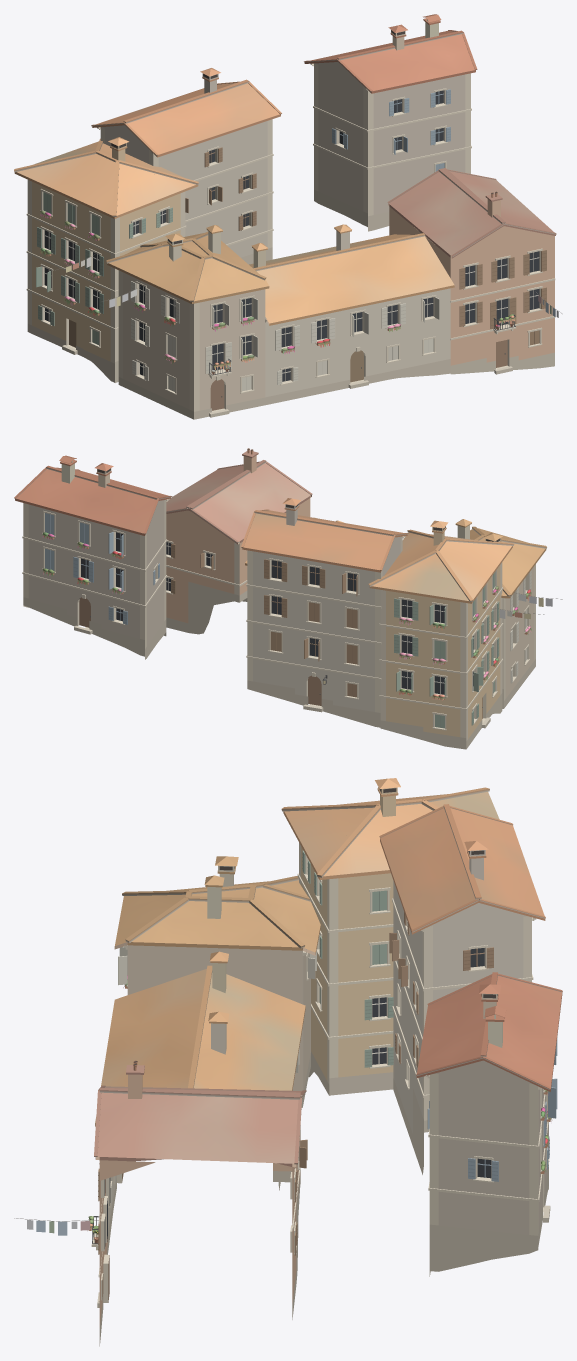
The model's file is SM_BM_BT_blk_02.glb.
3 renders of one model, top to bottom at view 1: azimuth 30°, elevation 25°; view 2: azimuth 150°, elevation 25°; view 3: azimuth 270°, elevation 25°, orthographic. The views are drawn at different scales.
Parts seen in each view (by area): view 1: SM_BM_BT_blk_02; view 2: SM_BM_BT_blk_02; view 3: SM_BM_BT_blk_02.
Boxes of the visible parts, bbox=[...] form: SM_BM_BT_blk_02: bbox=[14, 14, 562, 419]; SM_BM_BT_blk_02: bbox=[14, 448, 562, 749]; SM_BM_BT_blk_02: bbox=[14, 778, 562, 1346].
Bounding box in the file's own units: 42.5 × 21.54 × 29.84.
